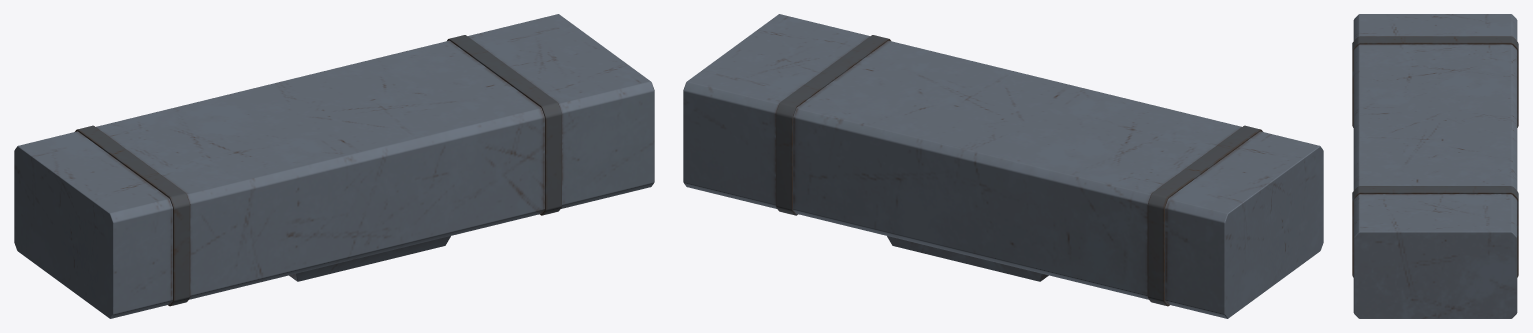
Rendered from SM_Ventilator01.fbx.
3 views of the same model, side by side, from view 1: azimuth 30°, elevation 25°; view 2: azimuth 150°, elevation 25°; view 3: azimuth 270°, elevation 25° (orthographic). The views are drawn at different scales.
Visible parts, largest first — view 1: SM_Ventilator01_LOD0; view 2: SM_Ventilator01_LOD0; view 3: SM_Ventilator01_LOD0.
Part boxes in pixels (x1,y1,x2,y2): SM_Ventilator01_LOD0: (14,14,654,318); SM_Ventilator01_LOD0: (683,14,1323,318); SM_Ventilator01_LOD0: (1352,14,1518,318).
Bounding box in the file's own units: 205 × 66.17 × 45.21.
Materials: 1 (1 with a texture image).
